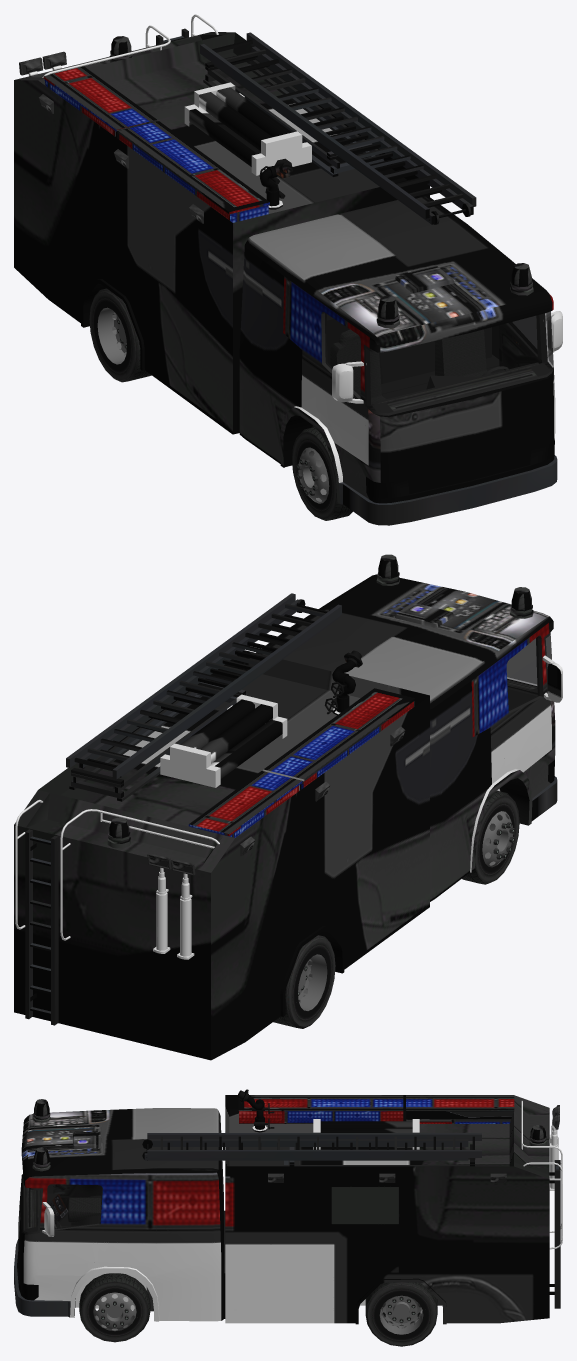
Rendered from FireTruck.FBX.
3 views of the same model, one above another, from view 1: azimuth 30°, elevation 25°; view 2: azimuth 150°, elevation 25°; view 3: azimuth 270°, elevation 25° (orthographic). The views are drawn at different scales.
Visible parts, largest first — view 1: Body, Door_R, Wheel_BR, Wheel_FR, Door_L; view 2: Body, Door_R, Wheel_BR, Wheel_FR; view 3: Body, Door_L, Wheel_FL, Wheel_BL, Door_R.
Boxes of the visible parts, bbox=[...] form: Body: bbox=[14, 14, 557, 525]; Door_R: bbox=[315, 300, 370, 462]; Wheel_BR: bbox=[89, 288, 151, 382]; Wheel_FR: bbox=[292, 427, 352, 520]; Door_L: bbox=[498, 311, 562, 370]; Body: bbox=[14, 554, 557, 1060]; Door_R: bbox=[502, 628, 562, 767]; Wheel_BR: bbox=[273, 935, 335, 1028]; Wheel_FR: bbox=[462, 790, 519, 884]; Body: bbox=[14, 1089, 562, 1324]; Door_L: bbox=[39, 1180, 108, 1275]; Wheel_FL: bbox=[79, 1273, 150, 1342]; Wheel_BL: bbox=[365, 1282, 437, 1346]; Door_R: bbox=[52, 1184, 102, 1209].
Bounding box in the file's own units: 63.37 × 74.21 × 177.
